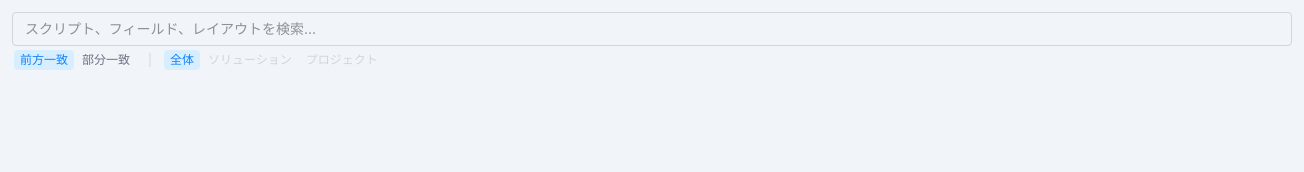
Test: SearchBar › clear_button_appears_when_query_not_empty
Step 1. Type "test" into the field → [652, 29], box [12,12,1292,46]
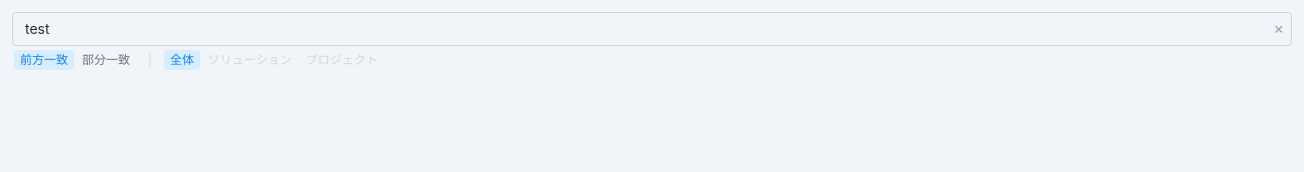
Expected: the button named "クリア" is shown, [1273,15,1284,43]
